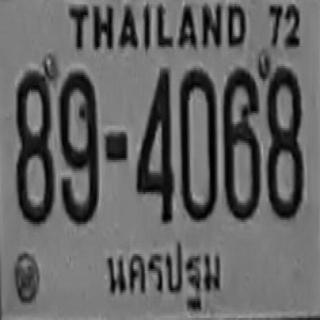N00: (178, 60, 222, 235)
N04: (134, 54, 181, 240)
N06: (222, 59, 268, 237)
N08: (6, 63, 63, 236), (266, 59, 310, 232)
N09: (56, 63, 108, 237)
P28: (97, 242, 243, 320)
